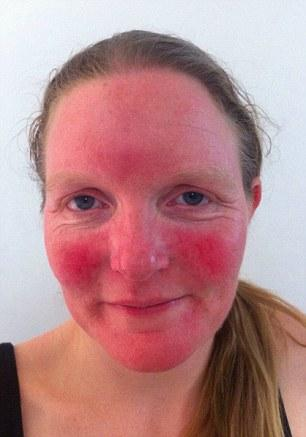Skin-Redness: (165, 218, 239, 296), (50, 229, 117, 296)
